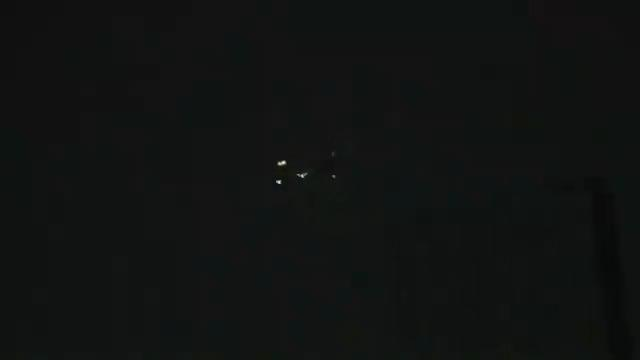Plane: (225, 141, 382, 195)
